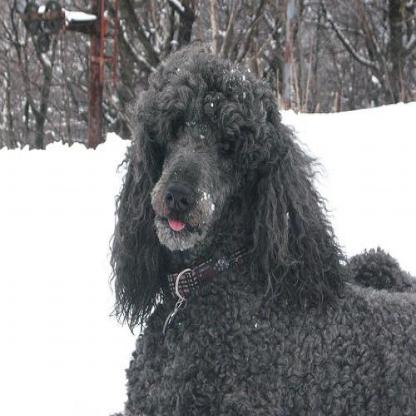standard_poodle: (106, 30, 414, 414)
